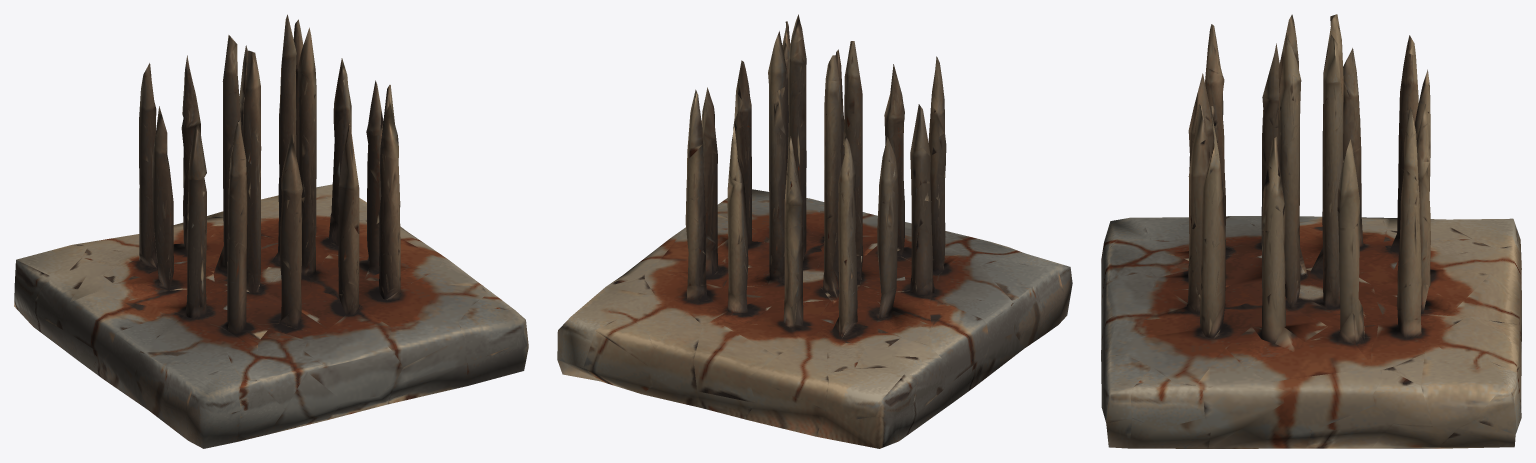
The model's file is spike_trap.glb.
3 renders of one model, left to right at view 1: azimuth 30°, elevation 25°; view 2: azimuth 150°, elevation 25°; view 3: azimuth 270°, elevation 25°, orthographic. The views are drawn at different scales.
Size of the model in its own units: 2 by 1.82 by 2.
Materials: 1 (1 with a texture image).
